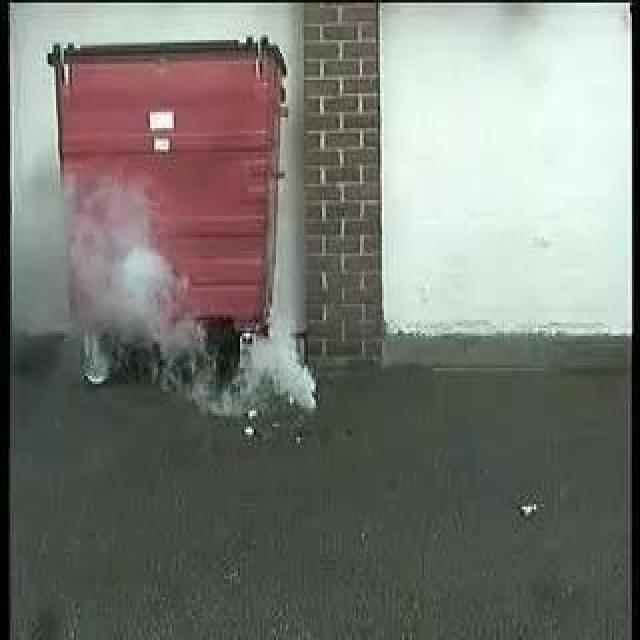Smoke: (63, 191, 317, 412)
